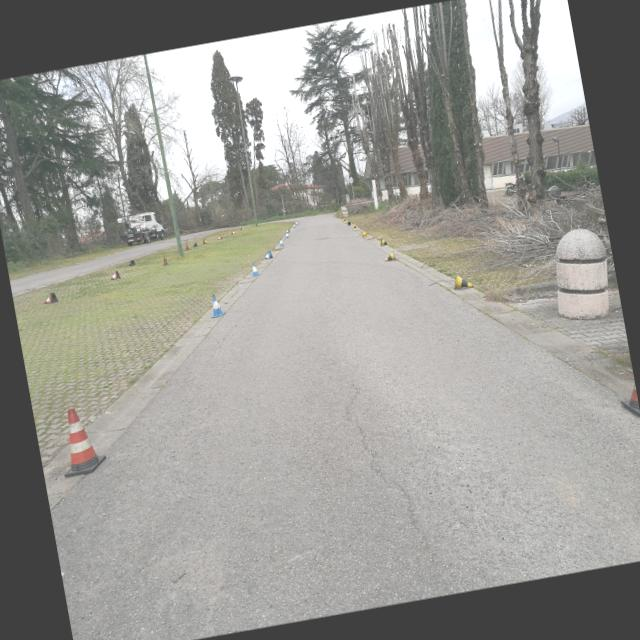blue_cone: (207, 293, 226, 318), (250, 261, 260, 276), (263, 250, 273, 259), (278, 238, 284, 246), (284, 231, 289, 238), (284, 228, 290, 233), (294, 220, 298, 224), (292, 223, 295, 228)
large_orange_cone: (53, 403, 108, 478)
orange_cone: (42, 291, 58, 304), (109, 270, 121, 280), (216, 235, 222, 239), (230, 230, 236, 234), (240, 226, 244, 230)
unknown_cone: (160, 254, 170, 265), (127, 259, 135, 266), (184, 242, 190, 250), (192, 241, 198, 247), (202, 238, 208, 244), (346, 220, 351, 226)
yellow_cone: (452, 271, 474, 290), (383, 250, 396, 262), (379, 237, 389, 246), (361, 230, 367, 238), (352, 222, 357, 230), (342, 217, 346, 223), (339, 216, 342, 221)
